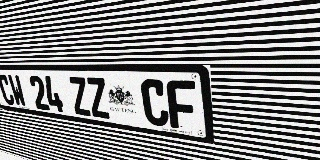2: (28, 75, 50, 110)
4: (42, 76, 65, 113)
C: (140, 79, 170, 127), (0, 74, 16, 106)
F: (166, 80, 198, 131)
W: (7, 75, 27, 107)
Z: (85, 77, 111, 119), (67, 77, 92, 116)
